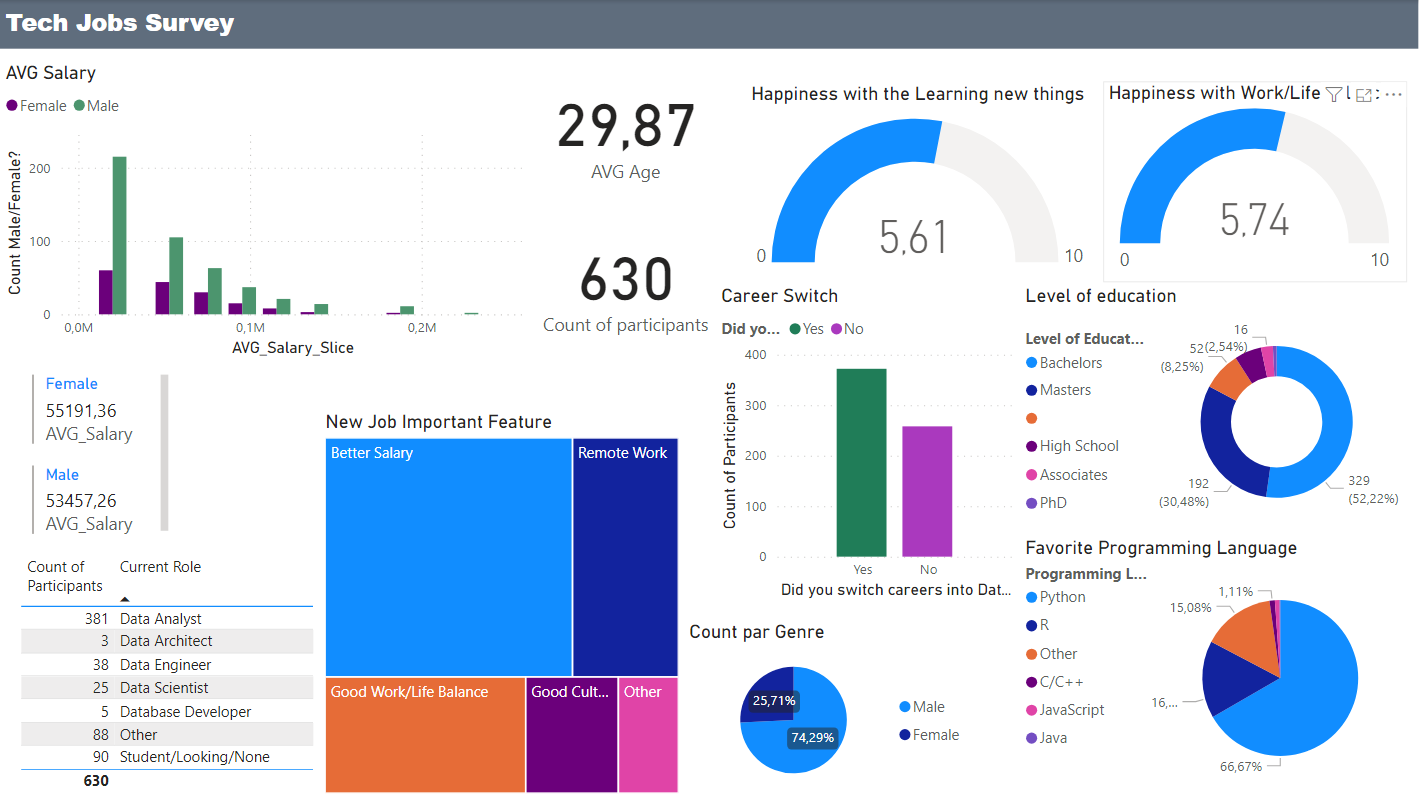

The page's visual inventory and layout, read from the dashboard file:
{"tool":"powerbi","page":{"name":"Page 1","canvas":[1280,720],"ordinal":0},"visuals":[{"type":"card","title":"Genre","fields":{"Values":["Avg(Data Professional Survey.Q10 - Current Age)"]},"box":[483.2,50.1,161.8,132.5],"z":0},{"type":"clusteredColumnChart","title":"AVG Salary","fields":{"Category":["Data Professional Survey.AVG_Salary"],"Y":["CountNonNull(Data Professional Survey.Q9 - Male/Female?)"],"Series":["Data Professional Survey.Q9 - Male/Female?"]},"box":[0,55.3,478,271.3],"z":1000},{"type":"columnChart","title":"Career Switch","fields":{"Category":["Data Professional Survey.Q2 - Did you switch careers into Data?"],"Y":["CountNonNull(Data Professional Survey.Unique ID)"],"Series":["Data Professional Survey.Q2 - Did you switch careers into Data?"]},"box":[681.5,401.5,238.4,318.5],"z":2000},{"type":"donutChart","title":"Level of education","fields":{"Category":["Data Professional Survey.Q12 - Highest Level of Education"],"Y":["CountNonNull(Data Professional Survey.AVG_Salary_Slice)"]},"box":[937.2,256.8,335.9,228.8],"z":3000},{"type":"treemap","title":"New Job Important Feature","fields":{"Group":["Data Professional Survey.Q8 - If you were to look for a new job today, what would be the most important"],"Values":["CountNonNull(Data Professional Survey.Unique ID)"]},"box":[301.6,370.5,363.2,349.6],"z":4000},{"type":"pieChart","title":"Favorite Programming Language","fields":{"Category":["Data Professional Survey.Q5 - Favorite Programming Language"],"Y":["CountNonNull(Data Professional Survey.Unique ID)"]},"box":[937.2,483.6,339.8,236.5],"z":5000},{"type":"tableEx","fields":{"Values":["CountNonNull(Data Professional Survey.Unique ID)","Data Professional Survey.Q1 - Which Title Best Fits your Current Role?"]},"box":[13.6,495.7,288,224.4],"z":6000},{"type":"gauge","title":"Happiness with Work/Life balance","fields":{"MinValue":["Min(Data Professional Survey.Q6 - How Happy are you in your Current Position with the following? (Work/Life Balance))"],"MaxValue":["Max(Data Professional Survey.Q6 - How Happy are you in your Current Position with the following? (Work/Life Balance))"],"Y":["Avg(Data Professional Survey.Q6 - How Happy are you in your Current Position with the following? (Work/Life Balance))"]},"box":[995.6,73.1,273.4,181.6],"z":7000},{"type":"card","fields":{"Values":["CountNonNull(Data Professional Survey.Unique ID)"]},"box":[483.2,182.6,161.8,144],"z":8000},{"type":"multiRowCard","fields":{"Values":["Data Professional Survey.Q9 - Male/Female?","Avg(Data Professional Survey.AVG_Salary_Slice)"]},"box":[24.1,344.6,133.2,151.5],"z":9000},{"type":"gauge","title":"Happiness with the Learning new things","fields":{"Y":["Avg(Data Professional Survey.Q6 - How Happy are you in your Current Position with the following? (Learning New Things))"],"MinValue":["Min(Data Professional Survey.Q6 - How Happy are you in your Current Position with the following? (Learning New Things))"],"MaxValue":["Max(Data Professional Survey.Q6 - How Happy are you in your Current Position with the following? (Learning New Things))1"]},"box":[673.1,74.1,314.1,180.5],"z":10000},{"type":"textbox","box":[0,0,1279.4,43.8],"z":11000}]}

Visuals, with their boxes in screenshot pixels (x1, y1, x2, y2), scaled from the page's 1280x720 canvas onto the 1419x798 screenshot:
"Genre" card: l=536, t=56, r=715, b=202
"AVG Salary" clusteredColumnChart: l=0, t=61, r=530, b=362
"Career Switch" columnChart: l=756, t=445, r=1020, b=797
"Level of education" donutChart: l=1039, t=285, r=1411, b=538
"New Job Important Feature" treemap: l=334, t=411, r=737, b=797
"Favorite Programming Language" pieChart: l=1039, t=536, r=1416, b=797
tableEx - CountNonNull(Data Professional Survey.Unique ID) x Data Professional Survey.Q1 - Which Title Best Fits your Current Role?: l=15, t=549, r=334, b=797
"Happiness with Work/Life balance" gauge: l=1104, t=81, r=1407, b=282
card - CountNonNull(Data Professional Survey.Unique ID): l=536, t=202, r=715, b=362
multiRowCard - Data Professional Survey.Q9 - Male/Female? x Avg(Data Professional Survey.AVG_Salary_Slice): l=27, t=382, r=174, b=550
"Happiness with the Learning new things" gauge: l=746, t=82, r=1094, b=282
textbox: l=0, t=0, r=1418, b=49
